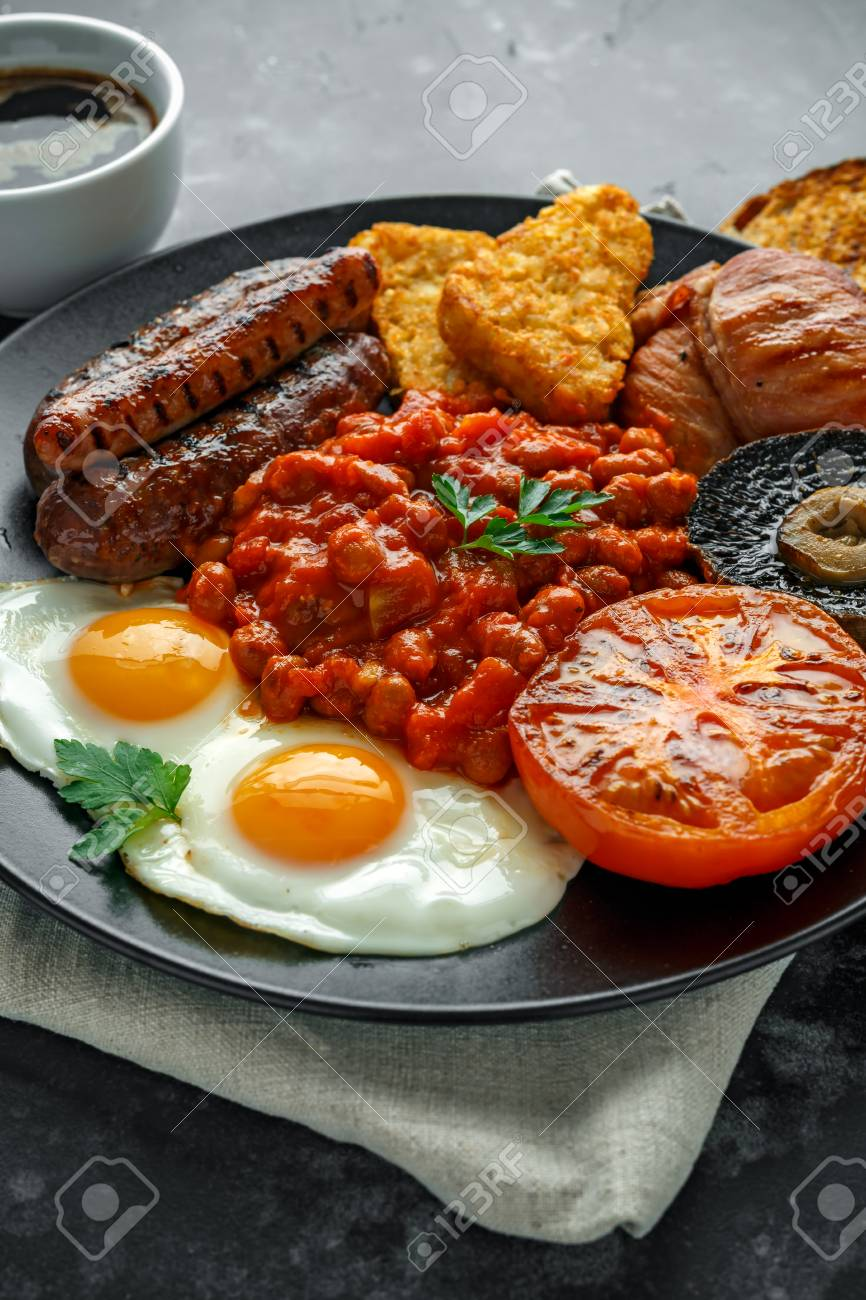fried_eggs: (14, 590, 535, 944)
triangle_hash_brown: (380, 199, 629, 390)
